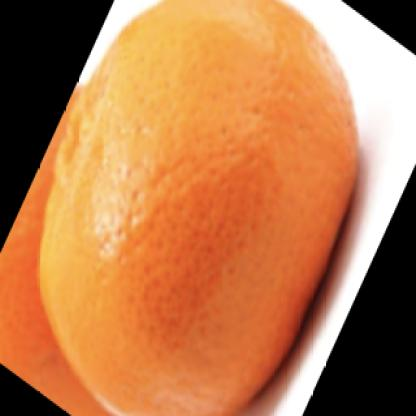fresh: (43, 2, 359, 416)
